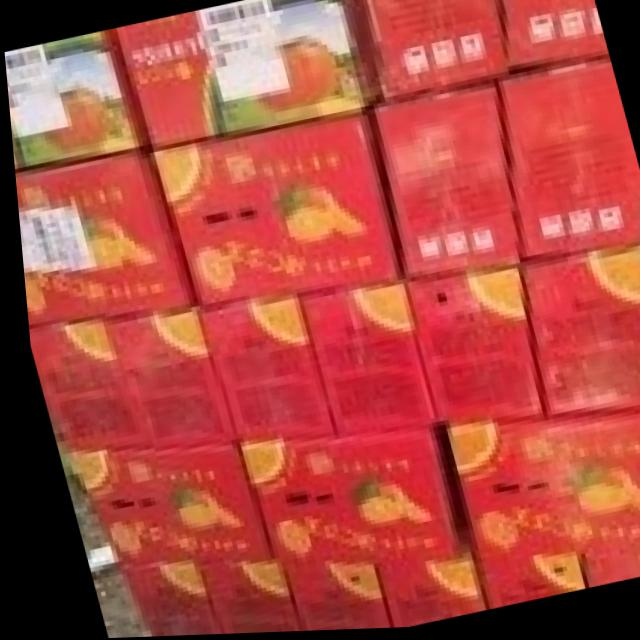box: (141, 114, 396, 307), (111, 0, 378, 149), (12, 155, 189, 325), (438, 414, 640, 556), (231, 430, 448, 561), (371, 90, 519, 281), (496, 66, 640, 261), (402, 270, 535, 429), (519, 249, 640, 419), (295, 286, 428, 436), (4, 29, 145, 170), (193, 299, 326, 444), (95, 307, 227, 448), (23, 318, 141, 449), (357, 0, 509, 100), (141, 445, 260, 561), (59, 450, 177, 566), (500, 0, 607, 74), (361, 562, 474, 630), (270, 562, 378, 633), (182, 563, 287, 635), (110, 564, 210, 637), (464, 554, 574, 613)
